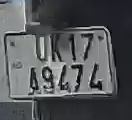1: (65, 32, 77, 62)
4: (85, 63, 107, 94), (55, 64, 72, 94)
7: (67, 65, 85, 93), (79, 34, 95, 62)
9: (41, 66, 56, 94)
A: (25, 66, 42, 96)
K: (48, 32, 64, 64)
U: (32, 32, 50, 66)
